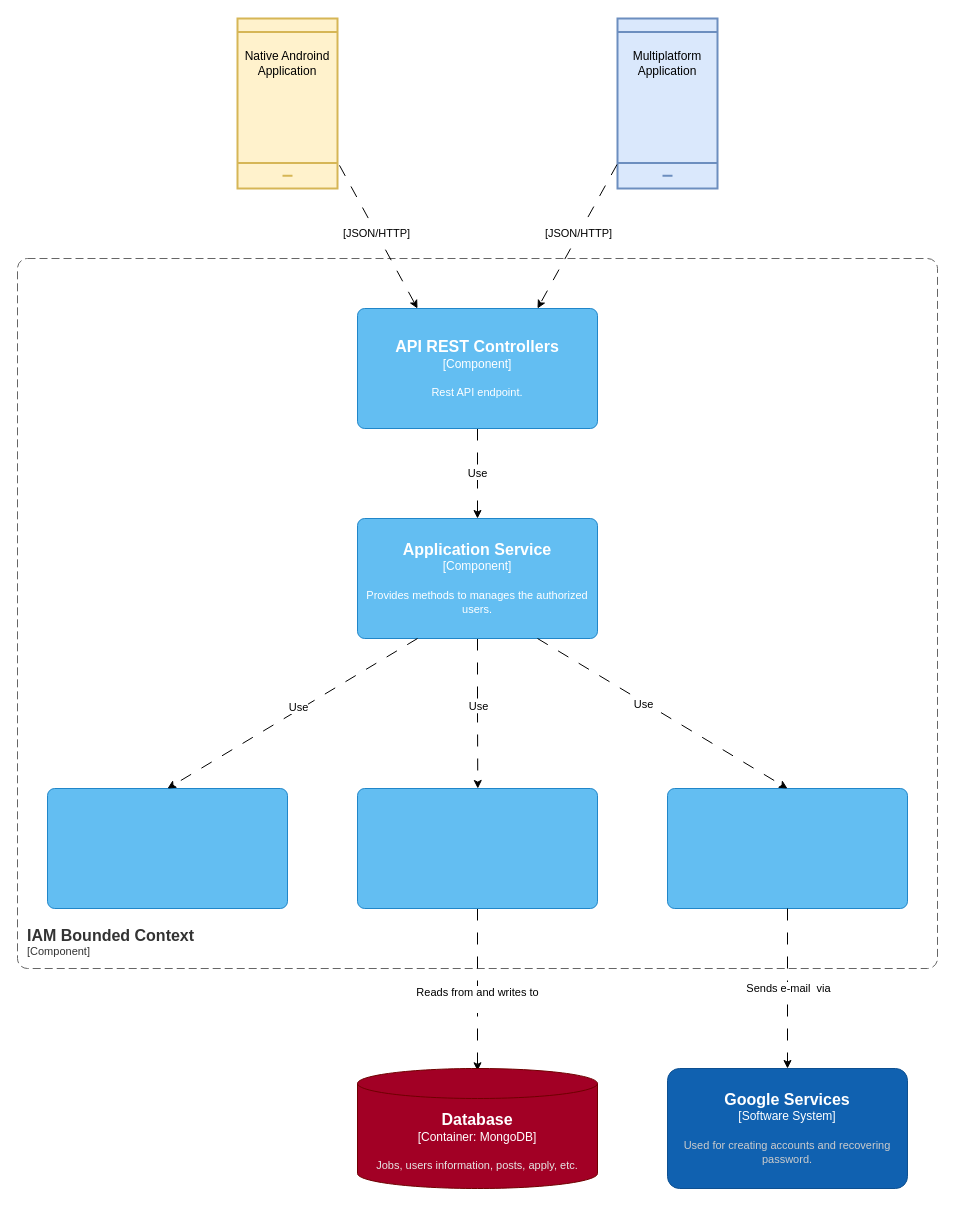
Image size: 955x1206. Some labels were removed from this diagram. Each missing label, with the centre of its shape:
"Domain Layer [Component: ] Contains aggregates, entities, value objetcs" belongs at [167,848].
"External Authentication Adapter [Component: ]" belongs at [787,848].
"User Repository [Component: ] Manage user storage" belongs at [477,848].
